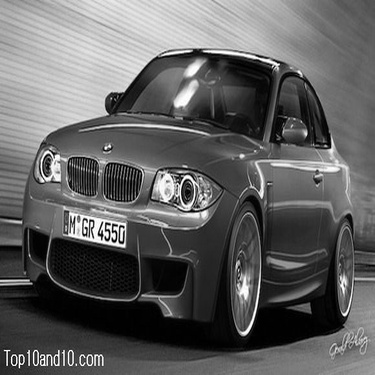car: (16, 39, 361, 352)
